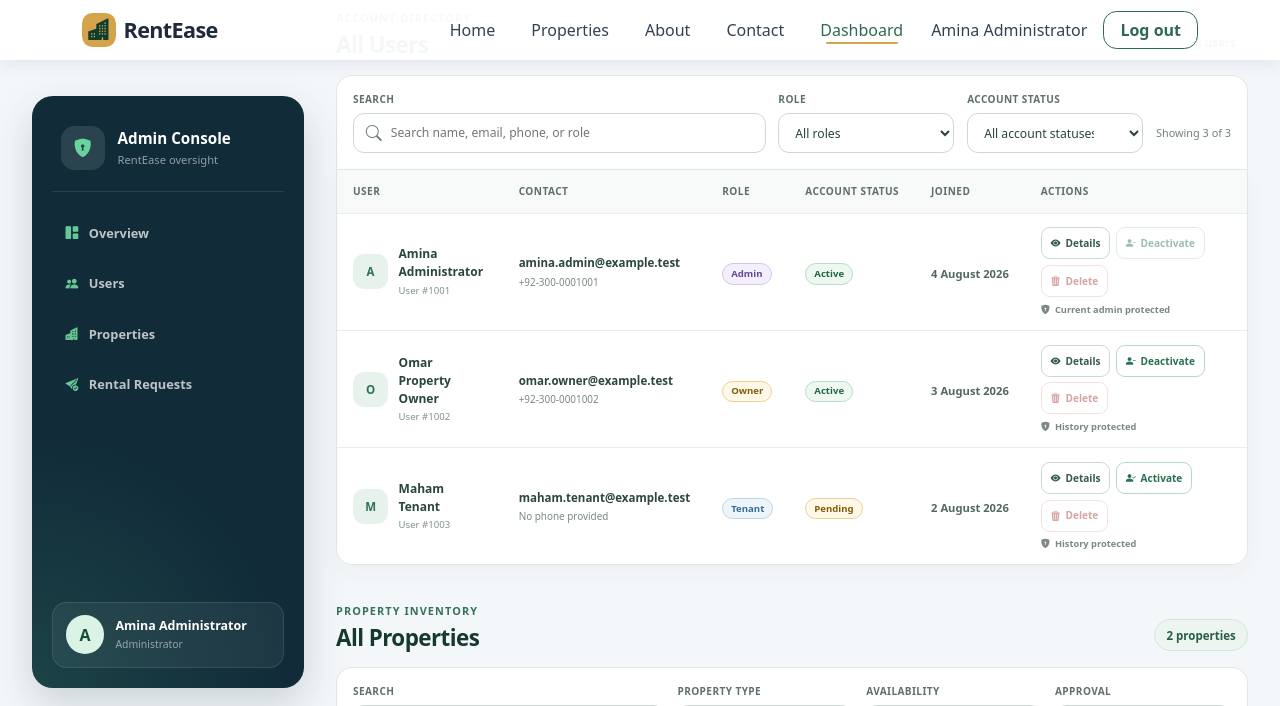
Test case: Admin dashboard page › activates and deactivates accounts while keeping the directory in sync
The image size is (1280, 706).
(page scrolled)
Click the button with aria-label "Deactivate Omar Property Owner": (1160,361) [1116, 345, 1205, 377]
(page scrolled)
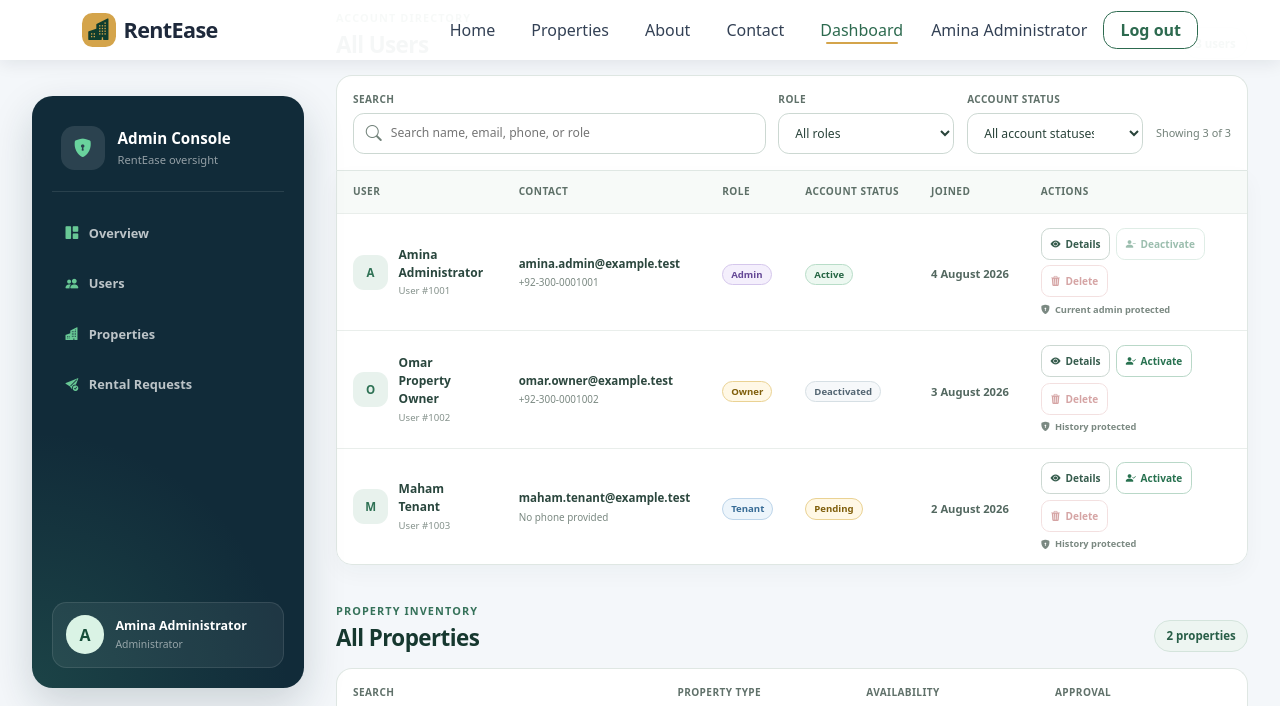
Expected: the button with aria-label "Activate Omar Property Owner" is shown, [1116, 345, 1192, 377]
Now the text "Deactivated" is shown, box [805, 381, 881, 402]
